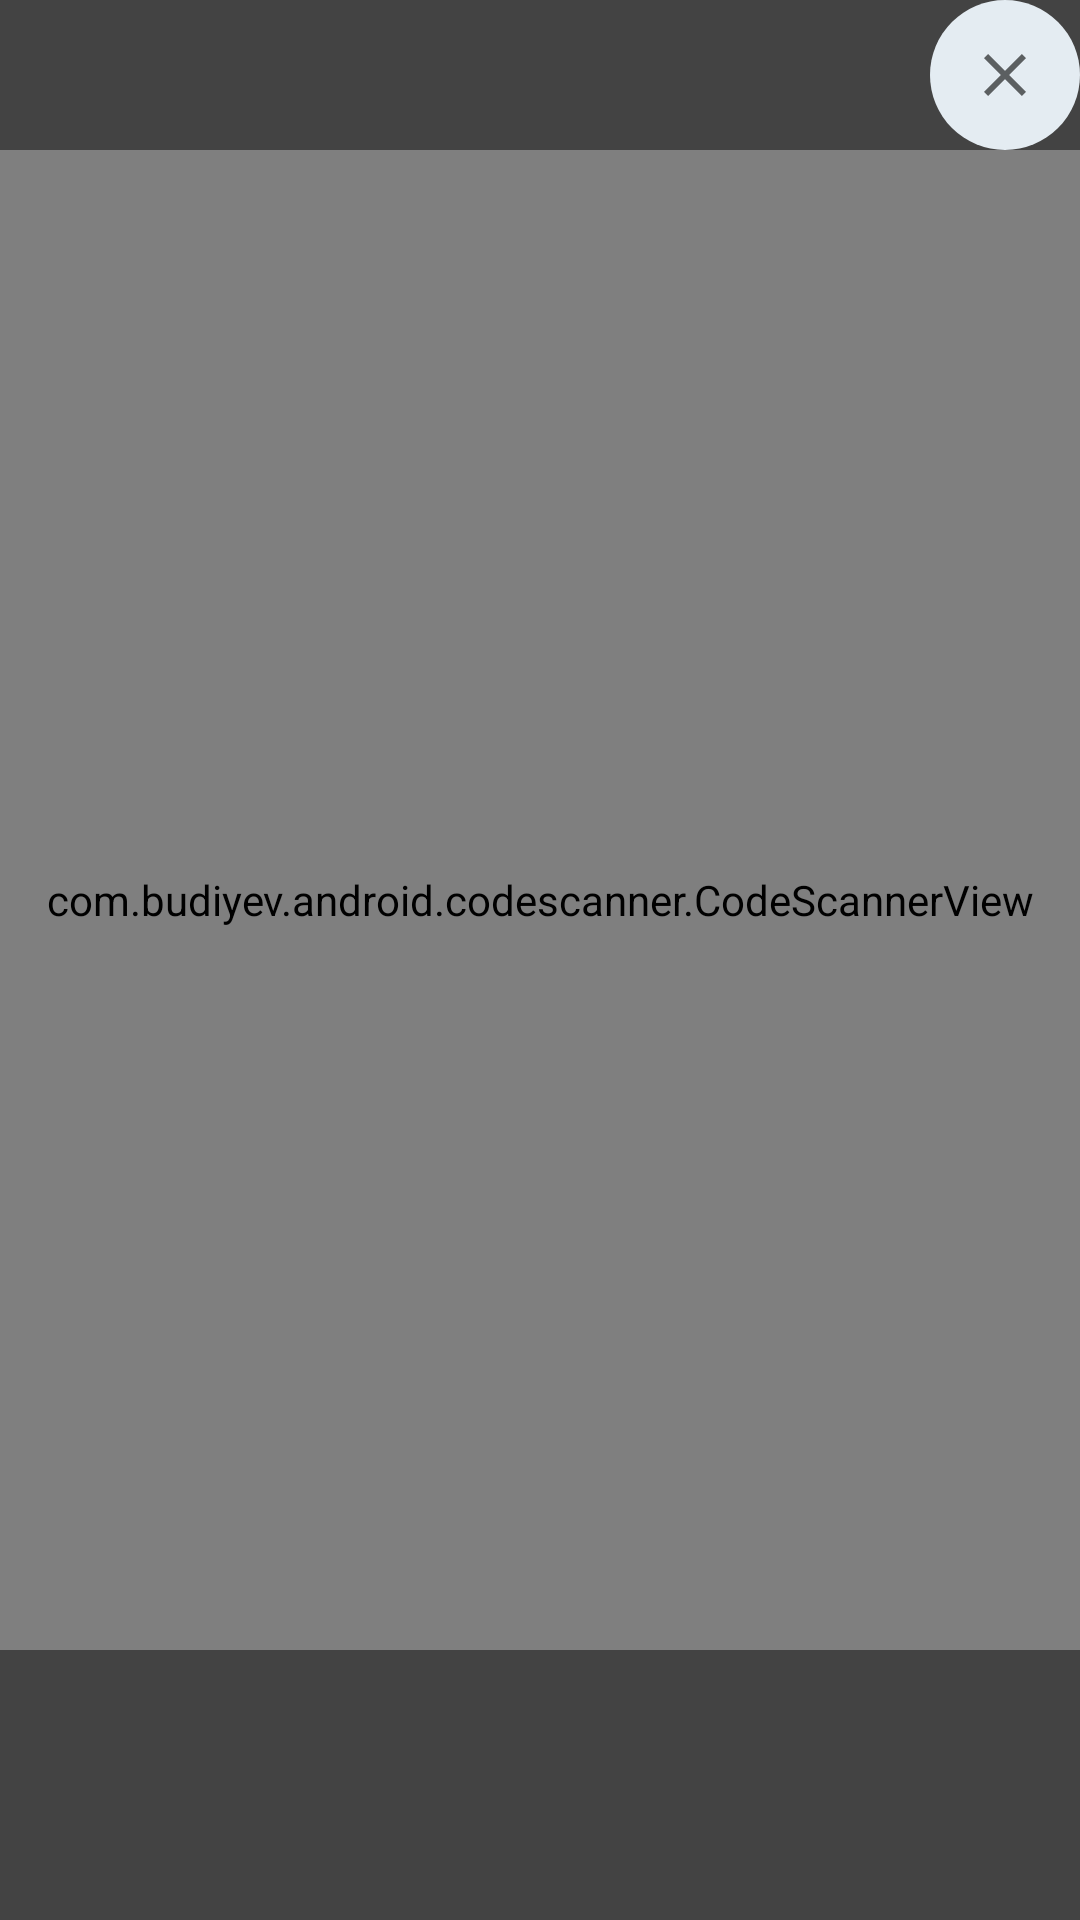

Icons on this 1080x1920 Android screen, each with the point to tap as (x=x, y=y):
close: (x=1005, y=75)
